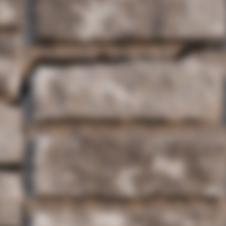brick: (31, 135, 225, 199), (33, 60, 221, 121), (33, 0, 192, 43), (31, 212, 221, 225), (185, 0, 225, 42), (0, 35, 21, 95), (0, 105, 22, 162), (0, 174, 20, 225), (0, 0, 23, 29), (19, 0, 22, 12)
crack: (2, 0, 223, 108), (0, 154, 22, 187), (9, 0, 23, 25), (204, 77, 220, 90), (19, 201, 26, 225), (20, 124, 27, 141)
